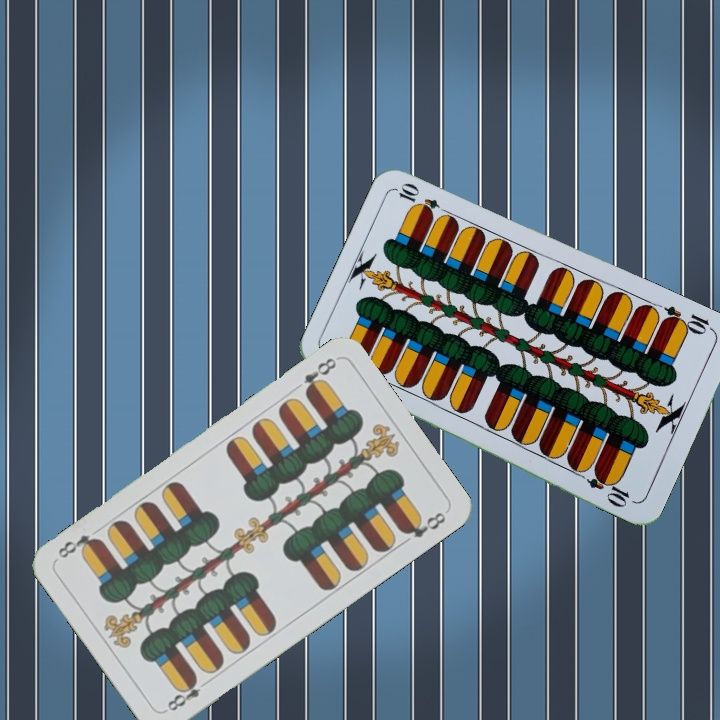E10: (658, 302, 717, 338)
E8: (161, 673, 213, 714), (299, 353, 339, 399)
